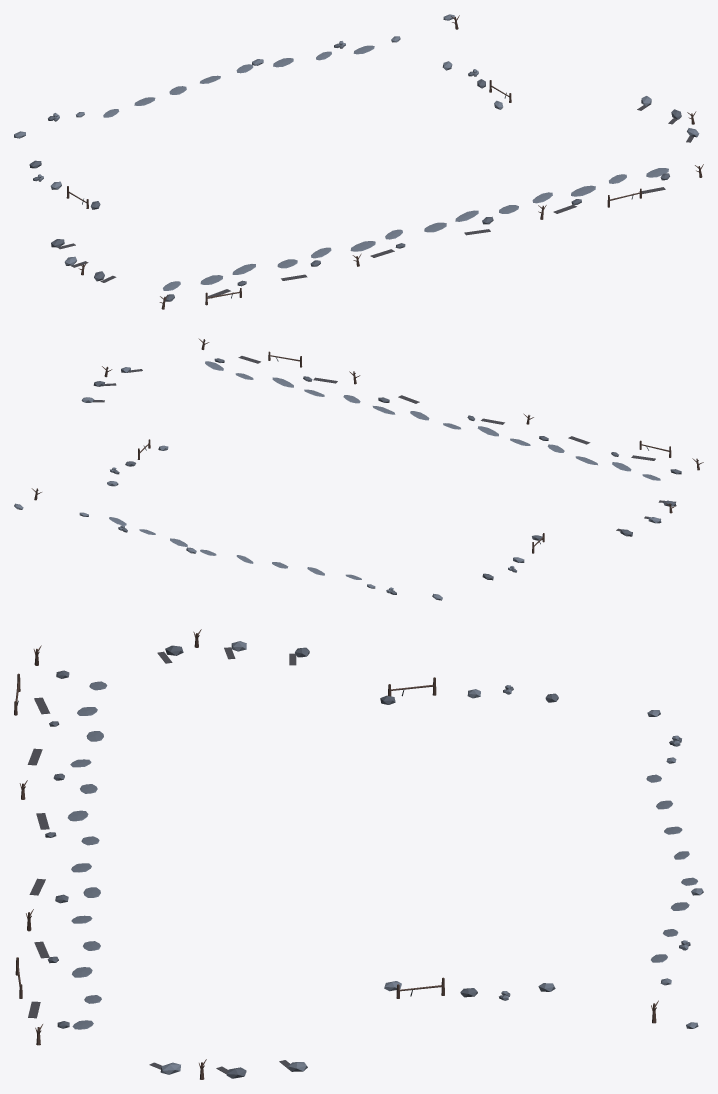
The model's file is ashen_ground_dressing_v1.glb.
3 views of the same model, one above another, from view 1: azimuth 30°, elevation 25°; view 2: azimuth 150°, elevation 25°; view 3: azimuth 270°, elevation 25° (orthographic). The views are drawn at different scales.
Bounding box in the file's own units: 60.02 × 1.45 × 39.91.
